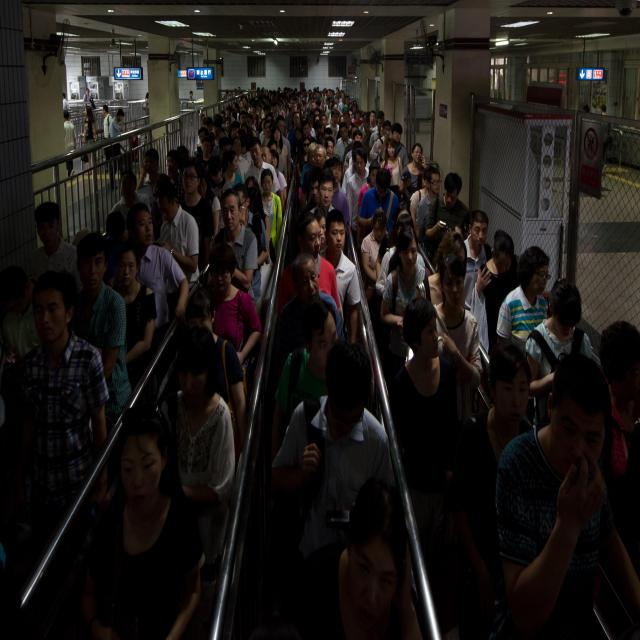body: (16, 82, 640, 266), (489, 345, 640, 640), (72, 404, 209, 640), (270, 341, 399, 588), (448, 340, 534, 640), (18, 273, 109, 512), (290, 480, 423, 640), (389, 300, 461, 550), (172, 329, 235, 605), (269, 294, 341, 466), (74, 237, 133, 440), (524, 274, 594, 437), (184, 290, 248, 455), (274, 253, 346, 382), (433, 248, 484, 422), (126, 202, 190, 336), (113, 244, 158, 433), (274, 213, 344, 331), (379, 226, 433, 376), (201, 242, 262, 368), (596, 319, 640, 476), (495, 244, 553, 360), (318, 208, 362, 345), (472, 230, 520, 352), (26, 201, 84, 294), (153, 181, 200, 289), (423, 171, 471, 272), (214, 187, 258, 296), (413, 230, 469, 313), (0, 277, 36, 401), (462, 208, 492, 312), (358, 166, 400, 239), (259, 168, 283, 267), (360, 209, 389, 289), (416, 168, 444, 240), (108, 109, 124, 189), (81, 106, 98, 176), (63, 110, 77, 178), (102, 104, 113, 172), (89, 98, 97, 141), (62, 92, 72, 122), (144, 92, 150, 123), (132, 135, 138, 163), (83, 88, 90, 106), (188, 90, 193, 106)
